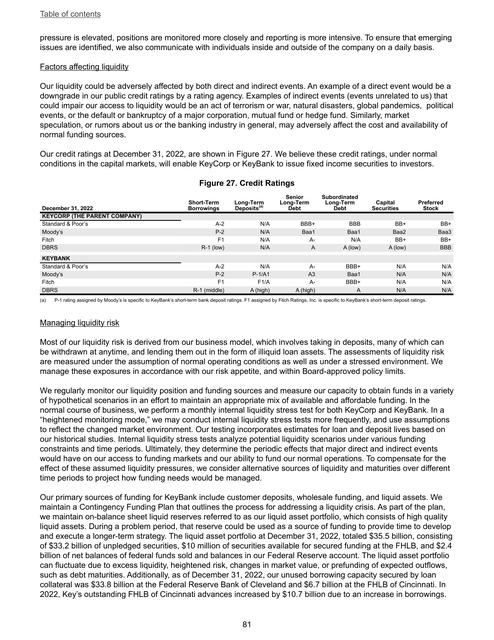box: (39, 197, 455, 305)
